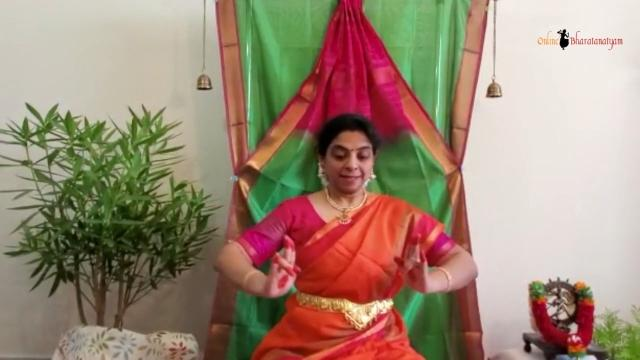tripataka: (260, 235, 308, 305), (388, 228, 432, 296)
